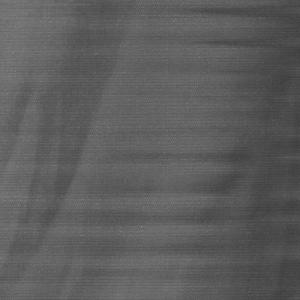Wrinkle: (154, 1, 300, 300), (1, 1, 138, 300)
